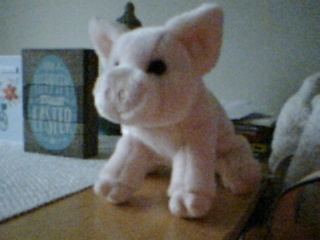piggy: (87, 3, 262, 220)
